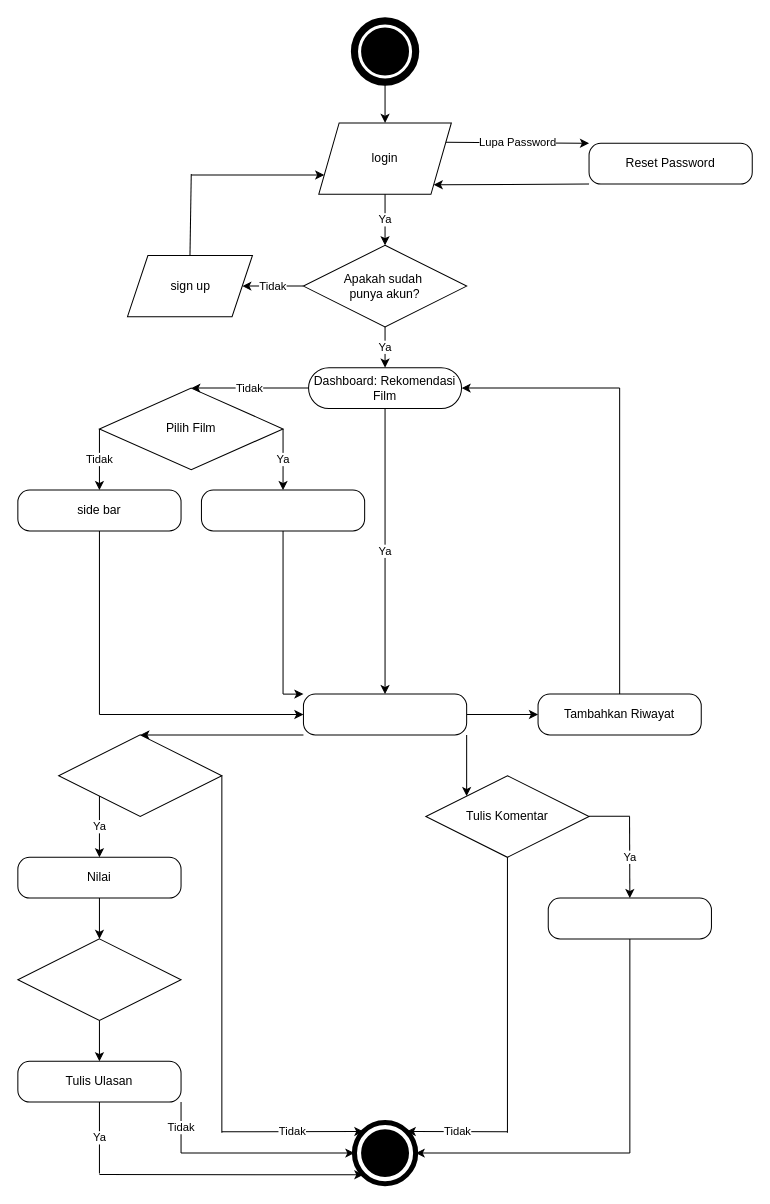
This 770x1204 diagram has some shape labels left out. Here are the shapes that lost their labels. From the top down, the centre of each, then its label:
(x=282, y=510): Search bar
(x=384, y=714): Tonton Film
(x=140, y=775): Beri Rating
(x=629, y=918): Komen
(x=99, y=979): Beri Ulasan
